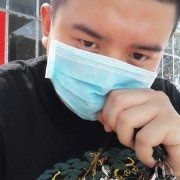Mask: (54, 18, 158, 122)
